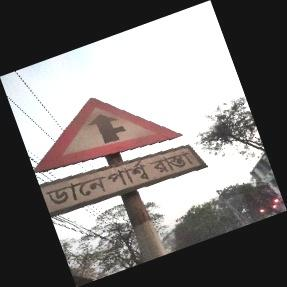Side-road-right: (32, 97, 203, 215)
